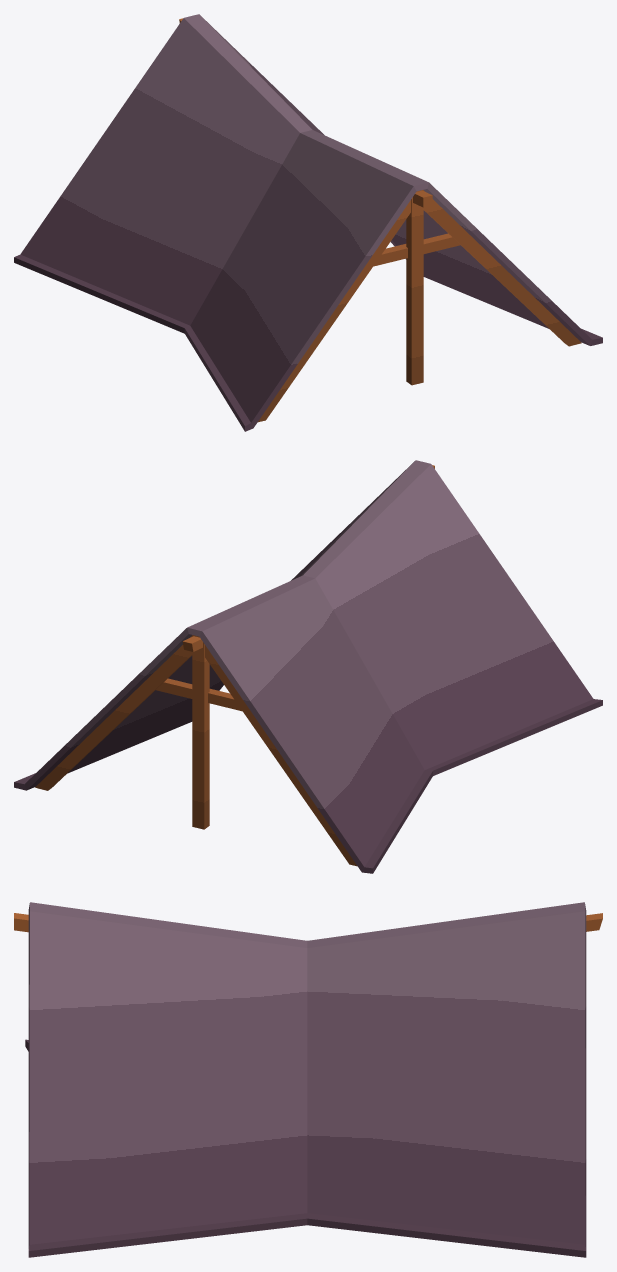
File: tent.fbx
The picture shows the model from 3 angles, top to bottom: view 1: azimuth 30°, elevation 25°; view 2: azimuth 150°, elevation 25°; view 3: azimuth 270°, elevation 25°; orthographic projection. The views are drawn at different scales.
Visible parts, largest first — view 1: Cube.054; view 2: Cube.054; view 3: Cube.054.
Part boxes in pixels (x1,y1,x2,y2): Cube.054: (14,14,602,431); Cube.054: (14,460,602,873); Cube.054: (14,902,602,1257).
Size of the model in its own units: 341 by 184 by 401.
